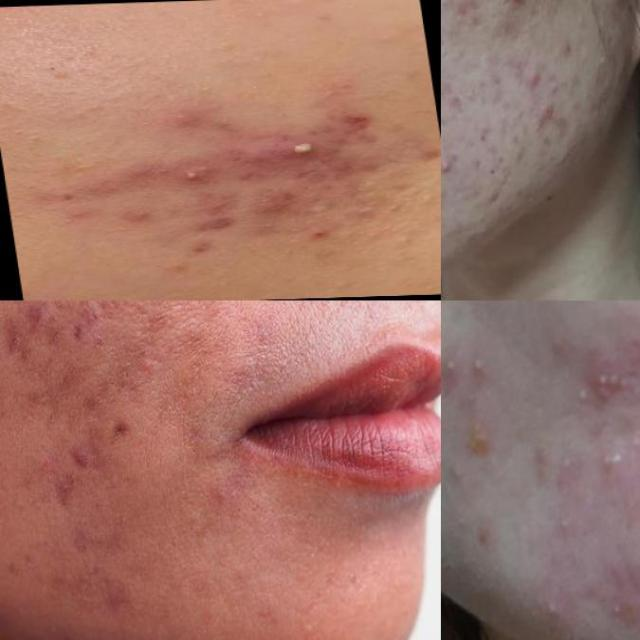acne_scars: (22, 350, 94, 434)
comedone: (259, 105, 309, 126), (554, 449, 583, 483), (44, 64, 80, 88), (379, 198, 418, 218), (549, 511, 577, 534), (441, 26, 447, 49)
papule: (233, 182, 309, 218), (503, 0, 529, 18)
pustule: (276, 136, 332, 163), (538, 591, 565, 628), (441, 144, 461, 189), (172, 168, 214, 186), (468, 350, 490, 384), (606, 597, 628, 629), (442, 347, 461, 382)
sebo-crystan-conglo: (569, 362, 640, 404), (457, 412, 497, 460), (592, 442, 634, 477)
